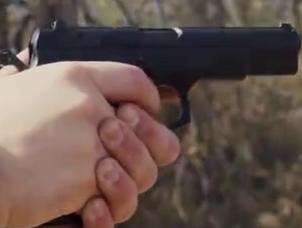gun: (1, 1, 302, 228)
